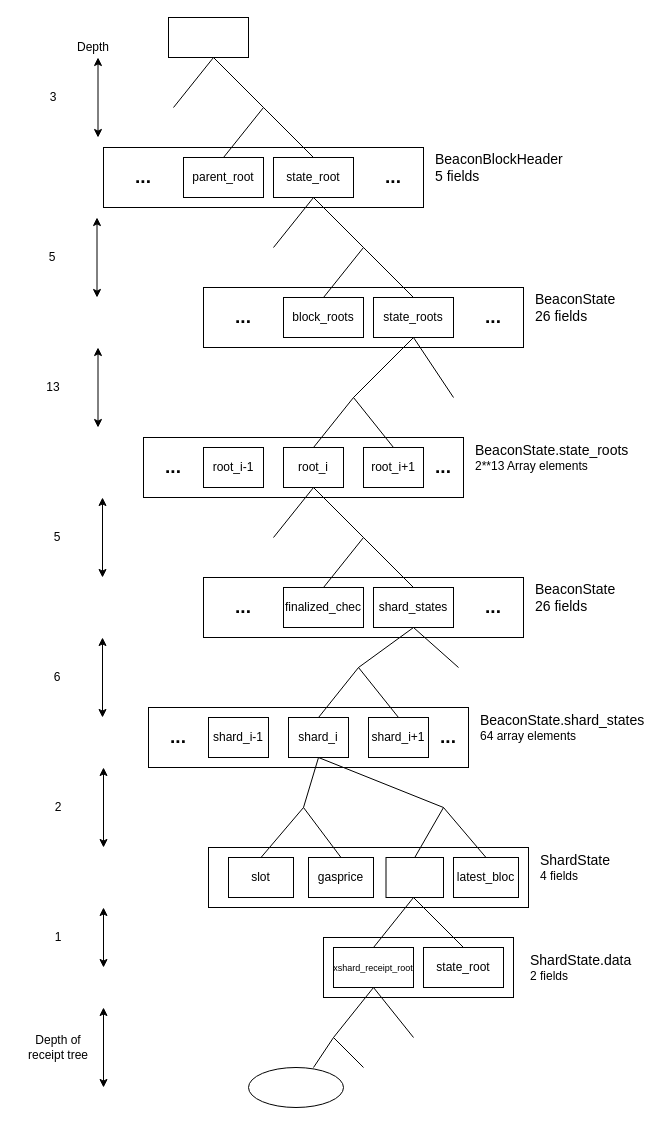
The diagram is 662 pixels wide and 1125 high, and some of its shapes have lost their labels. Here are the shapes that lost their labels. From the top down, the centre of each, then its label:
the point at 208,37: BlockHash
the point at 414,877: data
the point at 296,1087: TransferReceipt
